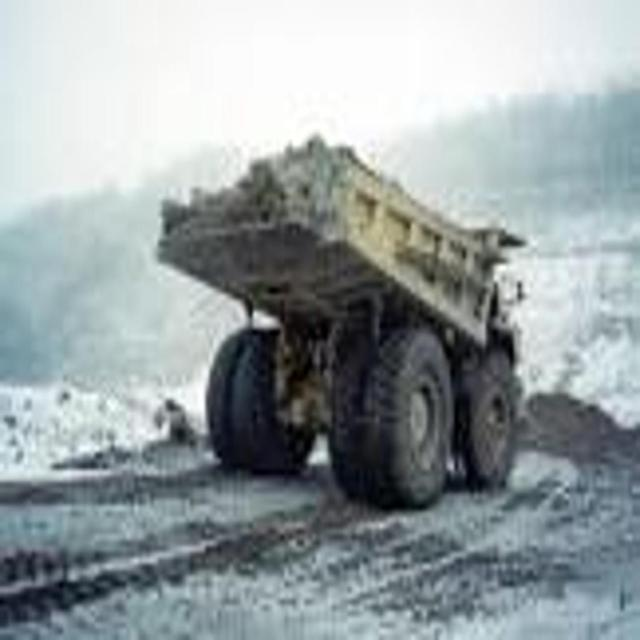dump_truck: (164, 78, 534, 497)
